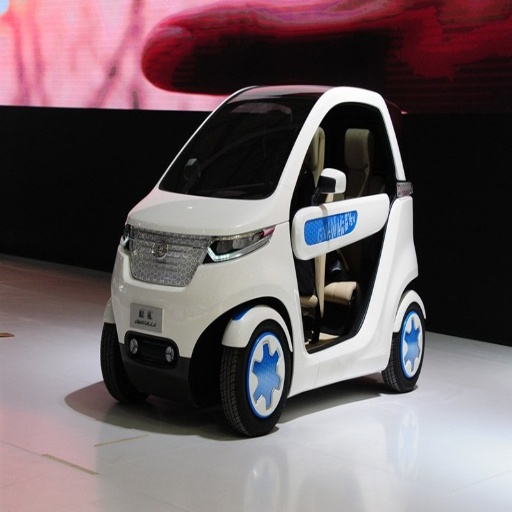front_bumper: (113, 230, 269, 395)
front_glass: (160, 99, 317, 199)
front_left_door: (295, 101, 373, 351)
